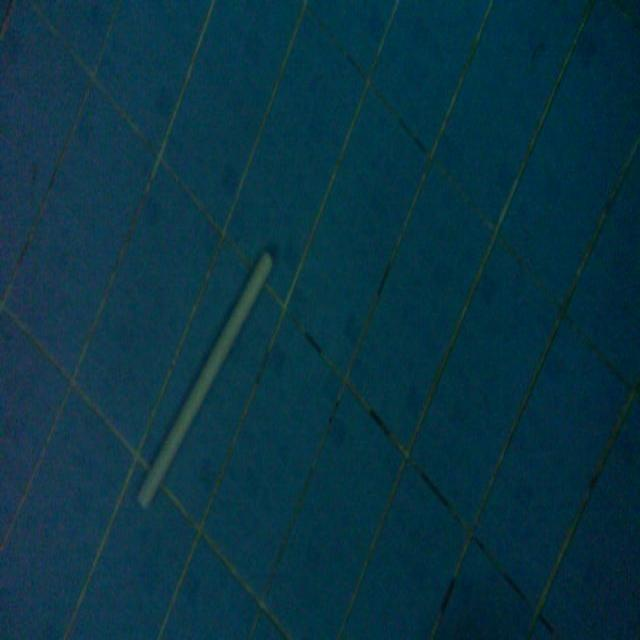Cube: (135, 242, 275, 510)
